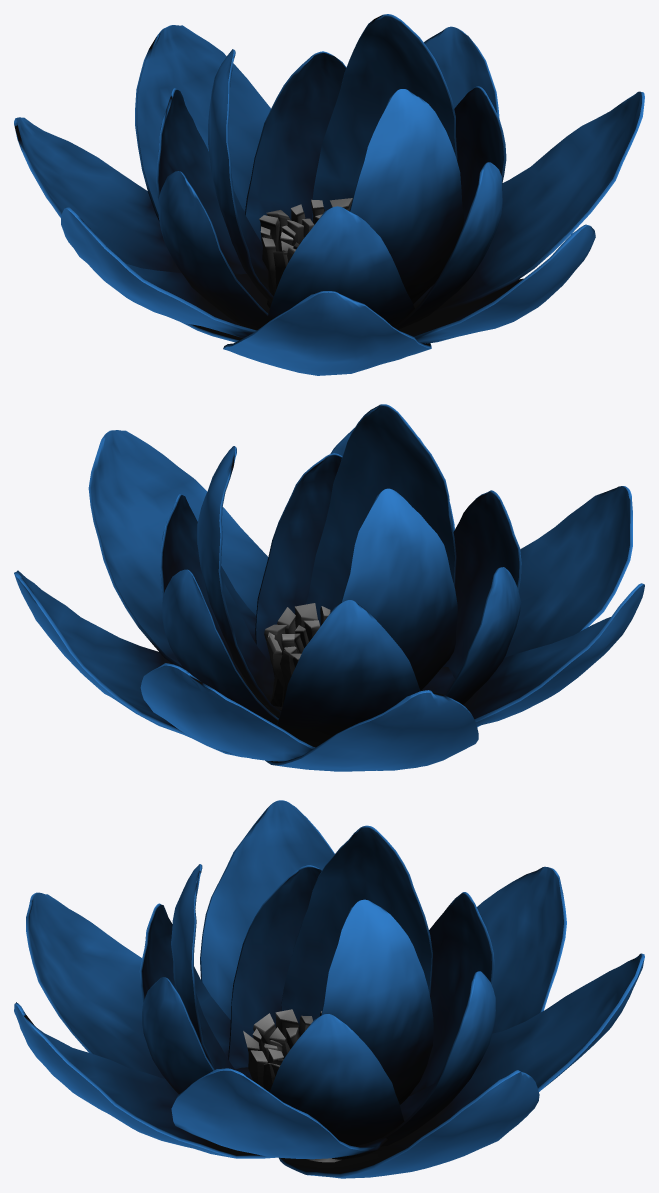
File: lotus_FBX.fbx
The picture shows the model from 3 angles, top to bottom: view 1: azimuth 30°, elevation 25°; view 2: azimuth 150°, elevation 25°; view 3: azimuth 270°, elevation 25°; orthographic projection.
Visible parts, largest first — view 1: lotu_petal_13, lotu_petal_02, lotu_petal_14, lotu_petal_00, lotu_petal_06, lotu_petal_04, lotu_petal_11, lotu_petal_08, lotu_petal_09, lotu_petal_05, lotu_petal_03, lotu_petal_15 (+5 smaller); view 2: lotu_petal_02, lotu_petal_15, lotu_petal_13, lotu_petal_04, lotu_petal_10, lotu_petal_06, lotu_petal_05, lotu_petal_00, lotu_petal_01, lotu_petal_07, lotu_petal_08, lotu_petal_11 (+4 smaller); view 3: lotu_petal_14, lotu_petal_04, lotu_petal_15, lotu_petal_05, lotu_petal_00, lotu_petal_12, lotu_petal_06, lotu_petal_02, lotu_petal_03, lotu_petal_01, lotu_petal_09, lotu_petal_10 (+5 smaller).
Boxes of the visible parts, x1,y1,x2,y2 form: lotu_petal_13: [349, 89, 464, 303]; lotu_petal_02: [413, 91, 644, 314]; lotu_petal_14: [312, 14, 457, 221]; lotu_petal_00: [135, 25, 270, 221]; lotu_petal_06: [14, 117, 242, 342]; lotu_petal_04: [223, 291, 431, 375]; lotu_petal_11: [245, 51, 346, 242]; lotu_petal_08: [265, 206, 414, 326]; lotu_petal_09: [158, 171, 268, 330]; lotu_petal_05: [61, 207, 269, 338]; lotu_petal_03: [398, 224, 595, 343]; lotu_petal_15: [208, 49, 273, 303]; lotu_petal_02: [88, 430, 282, 710]; lotu_petal_15: [341, 488, 457, 690]; lotu_petal_13: [306, 404, 456, 626]; lotu_petal_04: [477, 486, 632, 727]; lotu_petal_10: [277, 600, 420, 747]; lotu_petal_06: [265, 690, 478, 771]; lotu_petal_05: [421, 583, 644, 726]; lotu_petal_00: [140, 663, 315, 761]; lotu_petal_01: [14, 570, 247, 757]; lotu_petal_07: [255, 453, 342, 662]; lotu_petal_08: [442, 490, 521, 678]; lotu_petal_11: [162, 569, 278, 725]; lotu_petal_14: [321, 899, 433, 1104]; lotu_petal_04: [26, 892, 164, 1078]; lotu_petal_15: [281, 825, 432, 1030]; lotu_petal_05: [200, 800, 334, 1080]; lotu_petal_00: [377, 953, 644, 1150]; lotu_petal_12: [269, 1013, 404, 1158]; lotu_petal_06: [477, 866, 566, 1033]; lotu_petal_02: [171, 1068, 387, 1159]; lotu_petal_03: [14, 1002, 276, 1158]; lotu_petal_01: [279, 1070, 539, 1178]; lotu_petal_09: [228, 865, 321, 1069]; lotu_petal_10: [409, 892, 494, 1096].
Bounding box in the file's own units: 5.49 × 2.7 × 5.39.
